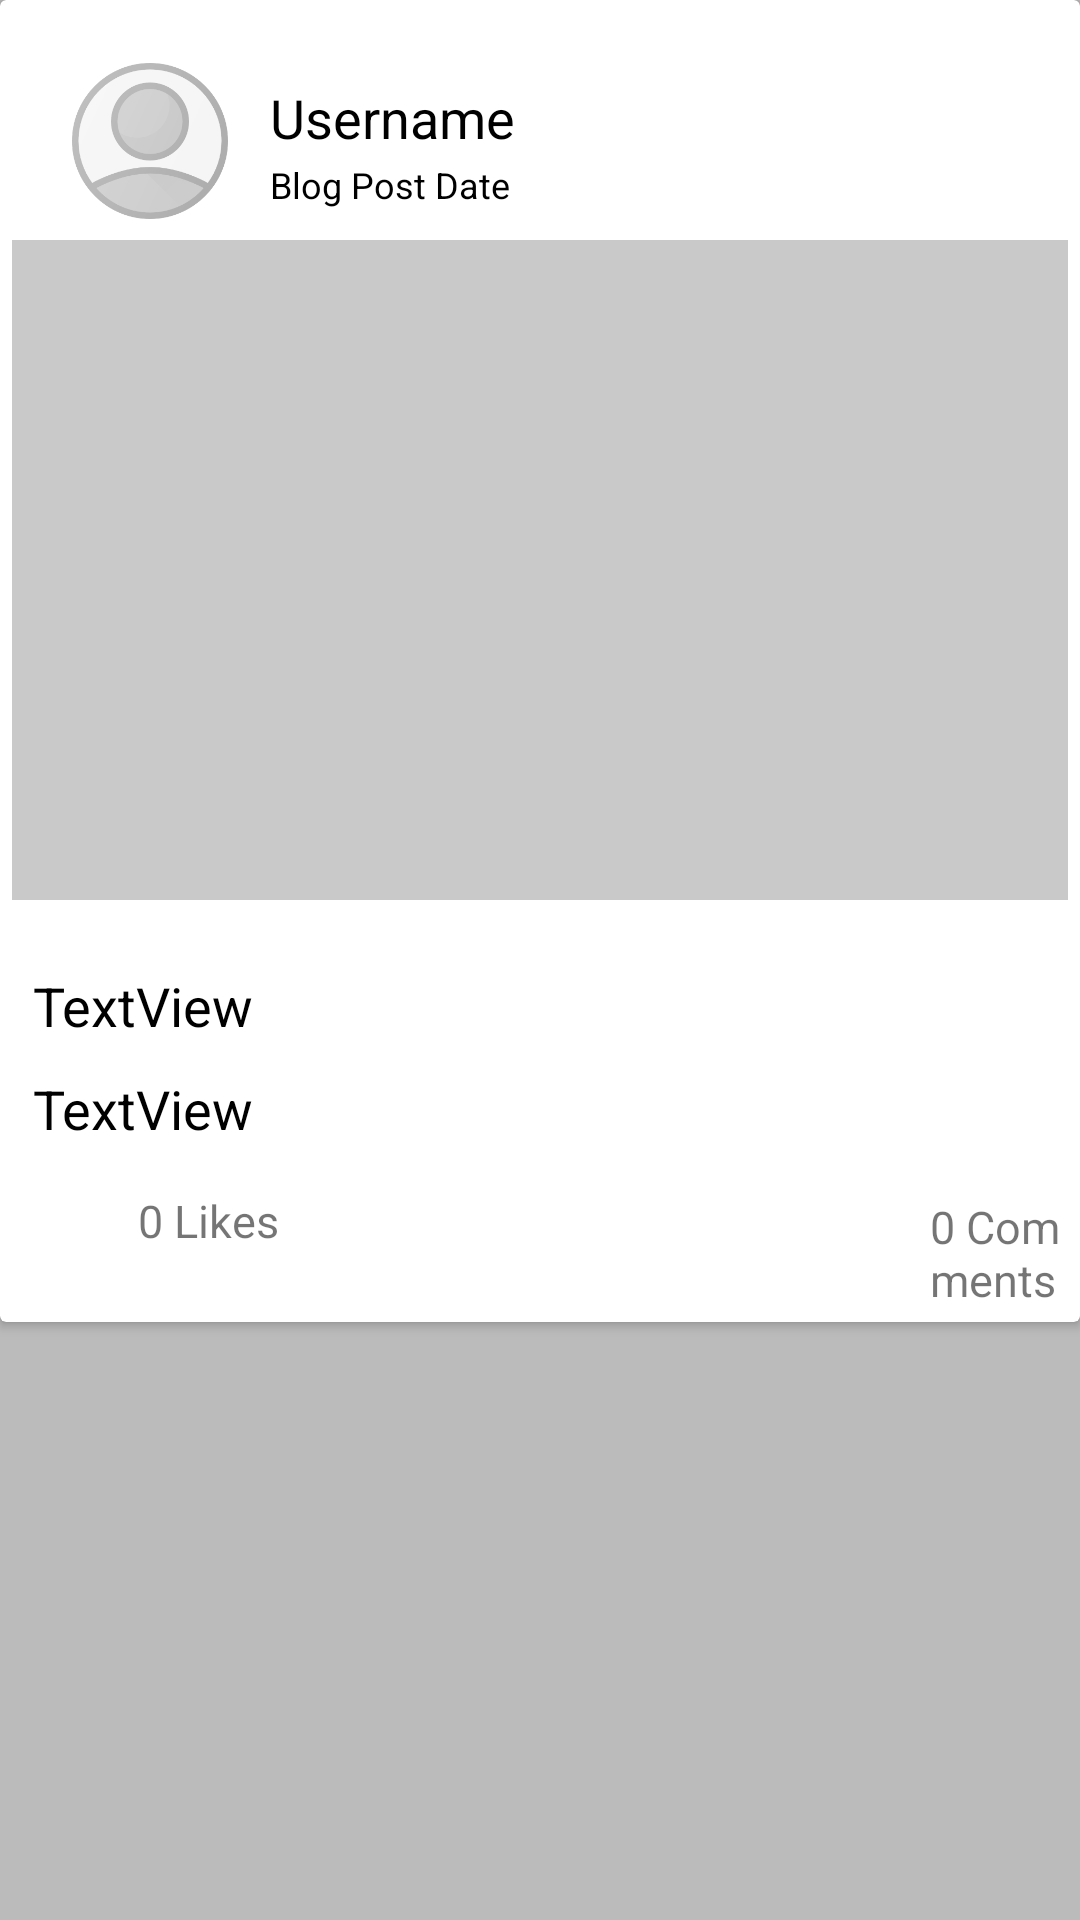

Icon bounding boxes for this 1080×1920 phone screenshot, format (x1, y1, x2, y2):
profile: (72, 63, 228, 219)
